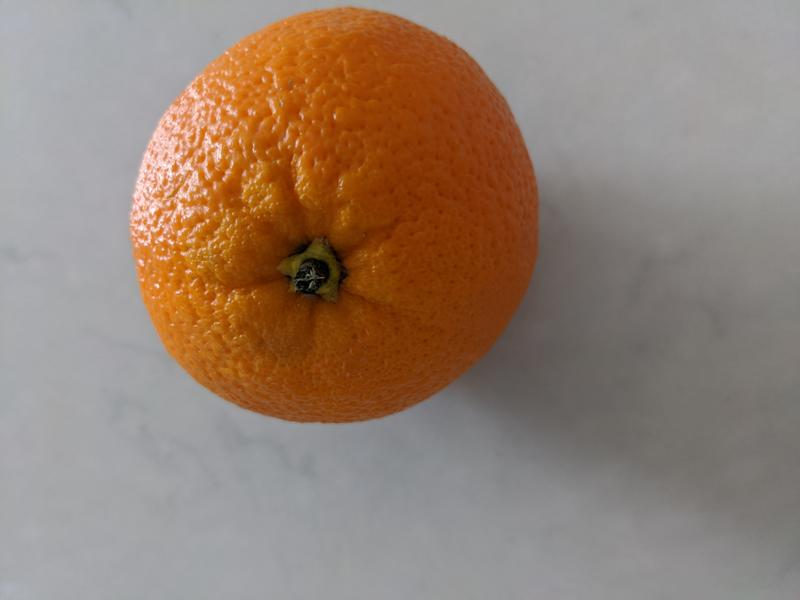orange: (127, 6, 542, 424)
